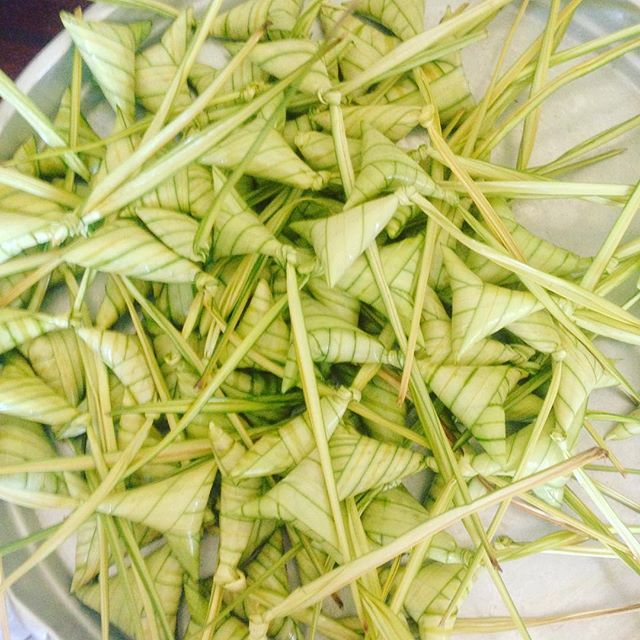kanomtom: (89, 439, 220, 587), (281, 180, 418, 286)
